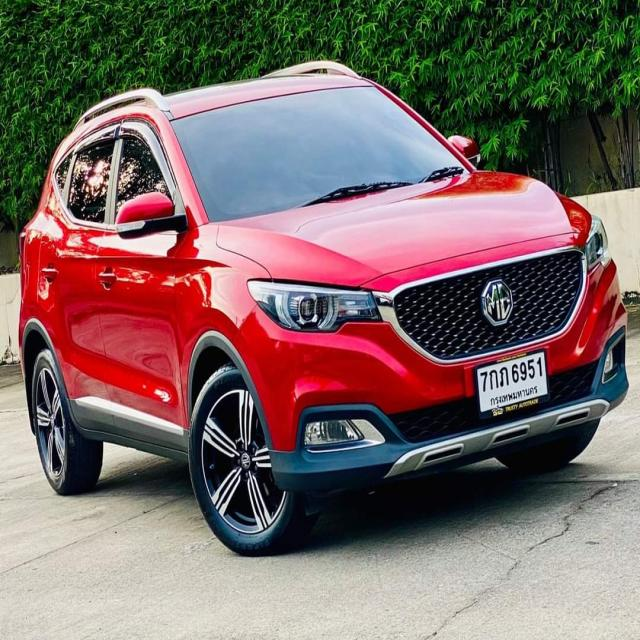license_plate: (470, 344, 554, 423)
